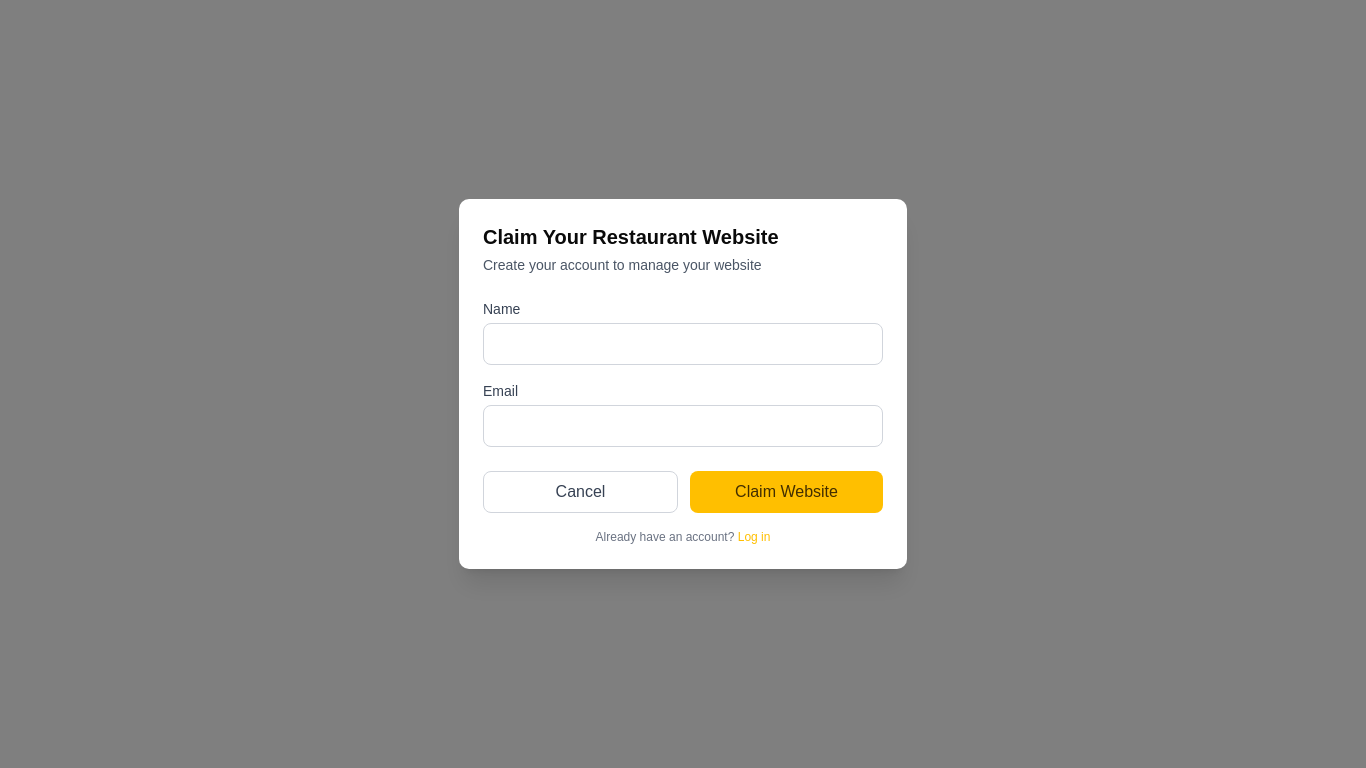
Scenario: ClaimModal › shows default error when API returns success false without error
In the field below "Name": (683, 344) [483,323,883,365], type "John Doe"
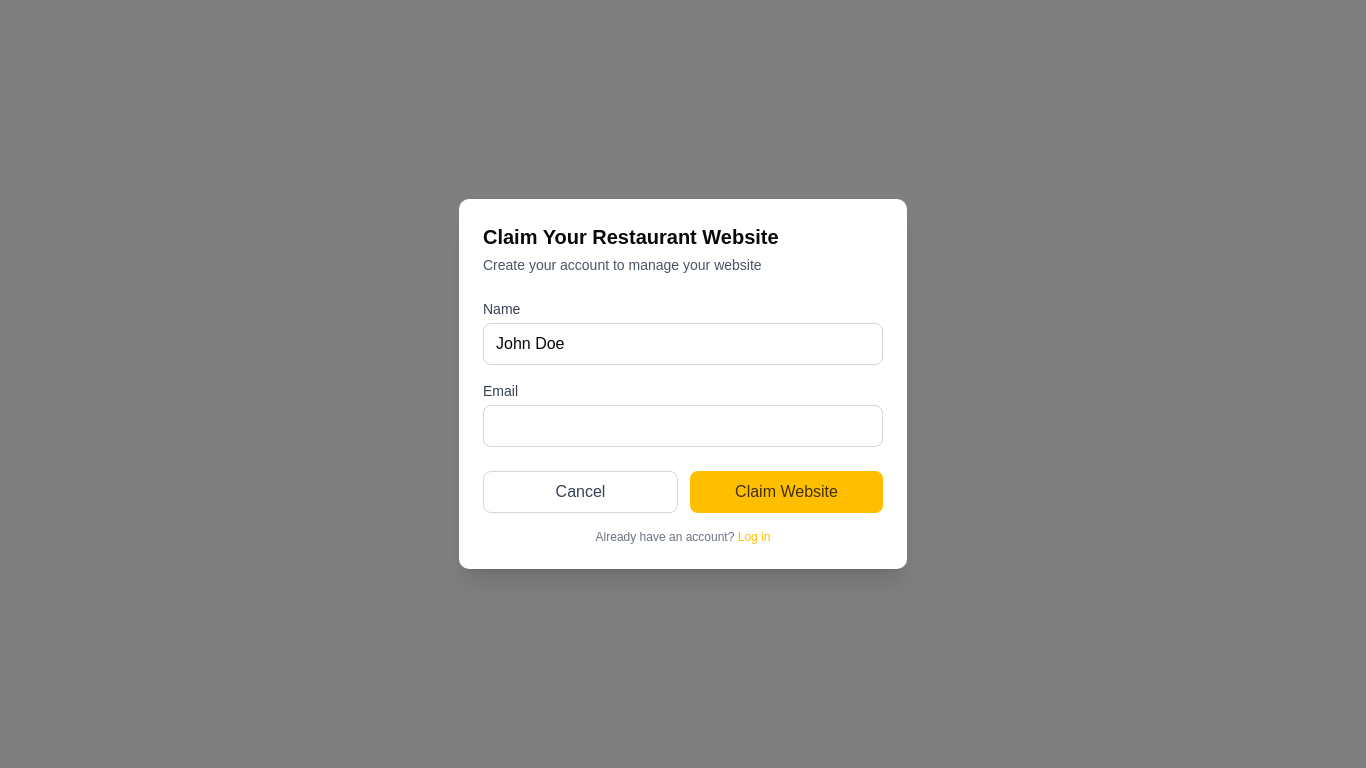
In the field below "Email": (683, 426) [483,405,883,447], type "john@test.com"
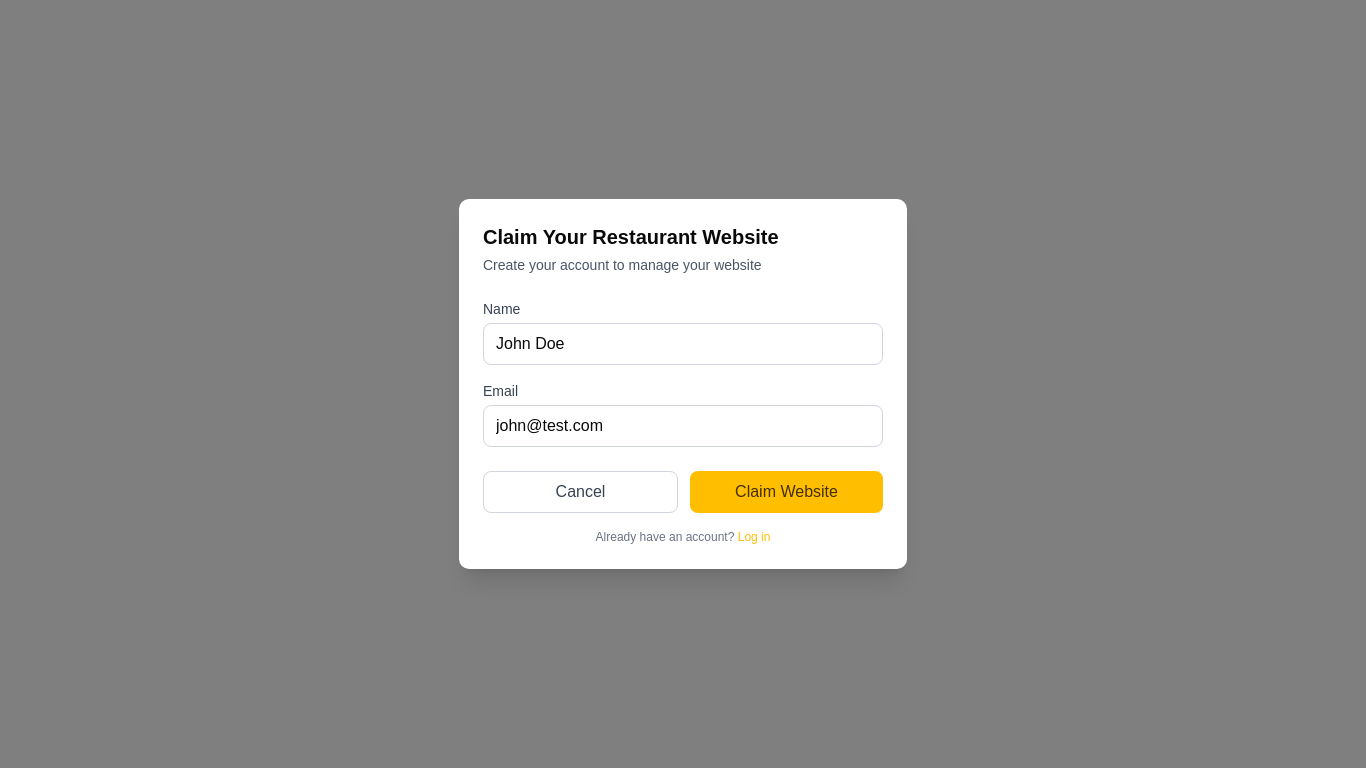
Click the button "Claim Website": (786, 492) [690,471,883,513]
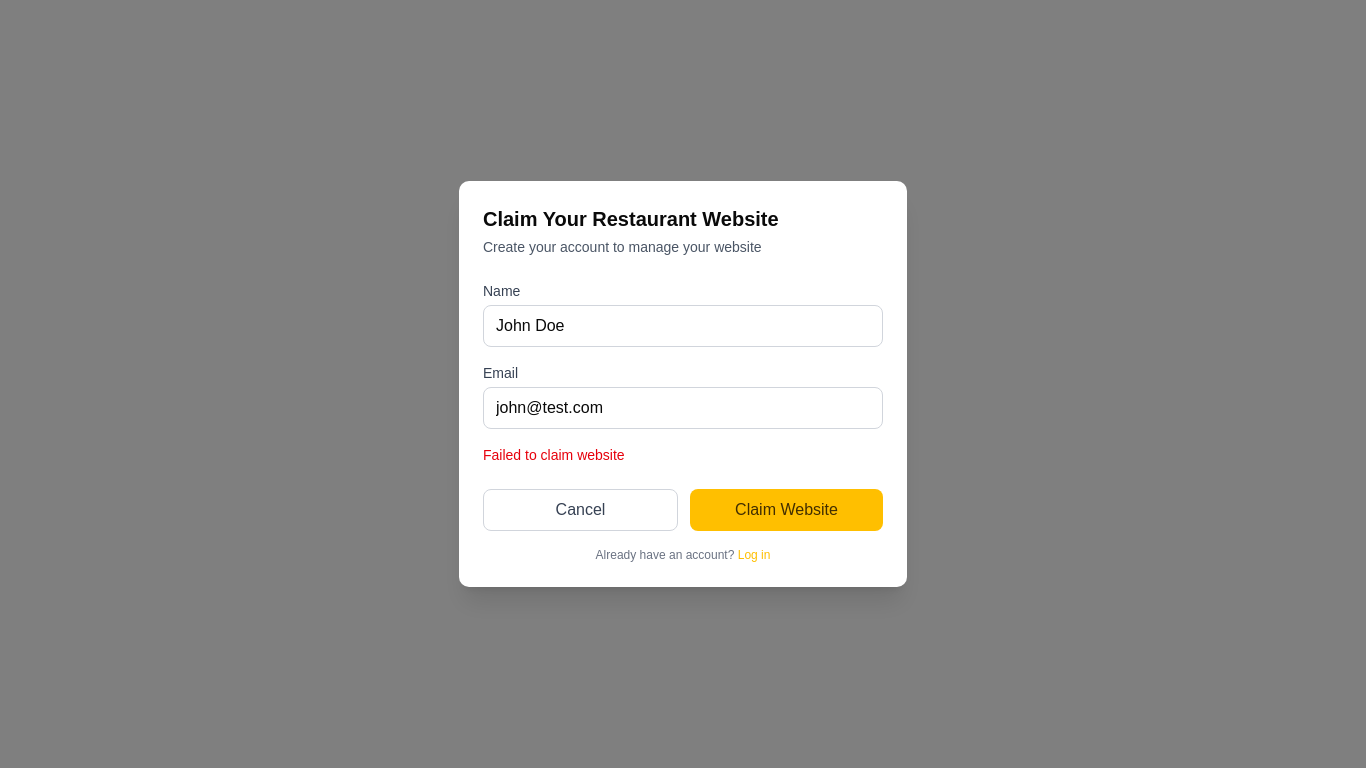
Now the text "Failed to claim website" is shown, box [483,447,625,463]
